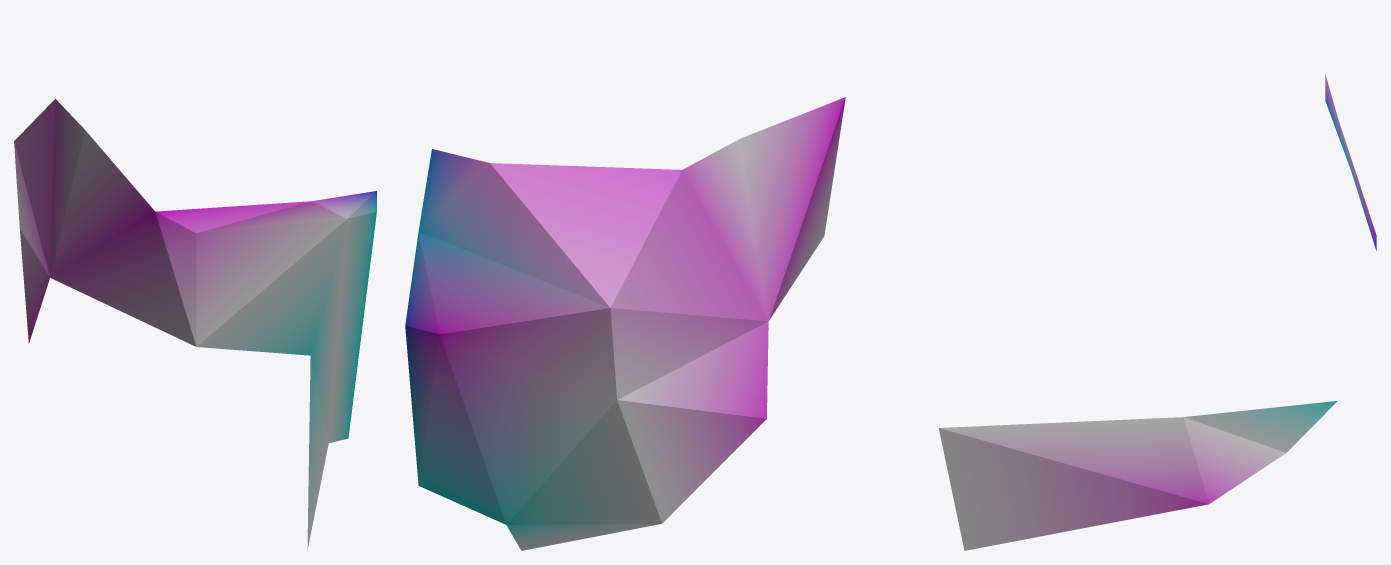
3 renders of one model, left to right at view 1: azimuth 30°, elevation 25°; view 2: azimuth 150°, elevation 25°; view 3: azimuth 270°, elevation 25°, orthographic. The views are drawn at different scales.
Parts seen in each view (by area): view 1: model_1133; view 2: model_1133; view 3: model_1133.
Part boxes in pixels (left/top/right/bottom): model_1133: left=14, top=99, right=376, bottom=548; model_1133: left=405, top=97, right=845, bottom=550; model_1133: left=938, top=74, right=1376, bottom=550.
Size of the model in its own units: 22 by 40 by 39.
